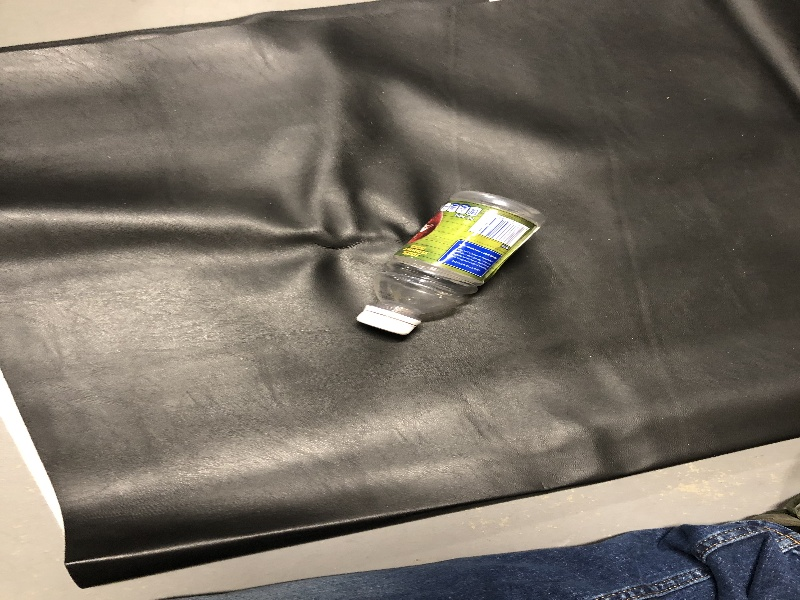plastic: (344, 183, 564, 349)
